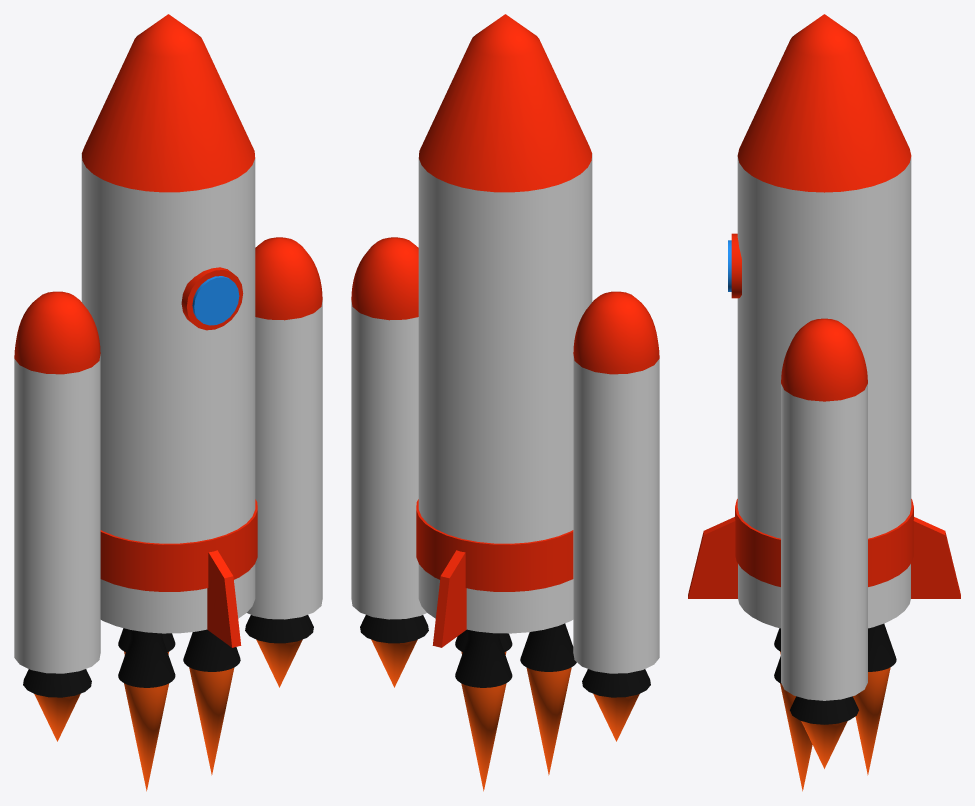
File: Rocket_20_HeavyLifter.obj
3 renders of one model, left to right at view 1: azimuth 30°, elevation 25°; view 2: azimuth 150°, elevation 25°; view 3: azimuth 270°, elevation 25°, orthographic.
Visible parts, largest first — view 1: R20_Body, R20_Booster_2, R20_Booster_1, R20_Nose, R20_Band_1, R20_BoosterNose_2, R20_BoosterNose_1, R20_Nozzle_2, R20_Fin_3, R20_Flame_2, R20_Flame_3, R20_Window_1 (+6 smaller); view 2: R20_Body, R20_Booster_2, R20_Booster_1, R20_Nose, R20_Band_1, R20_BoosterNose_2, R20_BoosterNose_1, R20_Nozzle_1, R20_Fin_1, R20_Flame_1, R20_Flame_2, R20_Nozzle_2 (+4 smaller); view 3: R20_Body, R20_Booster_1, R20_Nose, R20_BoosterNose_1, R20_Band_1, R20_Fin_1, R20_Fin_3, R20_Flame_1, R20_BoosterNozzle_1, R20_Flame_3, R20_Nozzle_1, R20_BoosterFlame_1 (+1 smaller).
Boxes of the visible parts, bbox=[...] form: R20_Body: bbox=[81, 154, 255, 633]; R20_Booster_2: bbox=[14, 354, 100, 673]; R20_Booster_1: bbox=[247, 300, 322, 619]; R20_Nose: bbox=[81, 14, 255, 192]; R20_Band_1: bbox=[100, 499, 257, 591]; R20_BoosterNose_2: bbox=[14, 291, 100, 374]; R20_BoosterNose_1: bbox=[255, 237, 322, 320]; R20_Nozzle_2: bbox=[118, 630, 175, 687]; R20_Fin_3: bbox=[207, 550, 241, 647]; R20_Flame_2: bbox=[124, 683, 168, 791]; R20_Flame_3: bbox=[189, 667, 234, 775]; R20_Window_1: bbox=[192, 276, 239, 325]; R20_Body: bbox=[418, 154, 592, 633]; R20_Booster_2: bbox=[573, 354, 659, 673]; R20_Booster_1: bbox=[351, 300, 426, 619]; R20_Nose: bbox=[418, 14, 592, 192]; R20_Band_1: bbox=[416, 499, 573, 591]; R20_BoosterNose_2: bbox=[573, 291, 659, 374]; R20_BoosterNose_1: bbox=[351, 237, 418, 320]; R20_Nozzle_1: bbox=[455, 629, 512, 687]; R20_Fin_1: bbox=[432, 550, 466, 647]; R20_Flame_1: bbox=[461, 683, 506, 791]; R20_Flame_2: bbox=[526, 667, 571, 775]; R20_Nozzle_2: bbox=[520, 623, 576, 671]; R20_Body: bbox=[737, 157, 911, 628]; R20_Booster_1: bbox=[781, 384, 867, 700]; R20_Nose: bbox=[737, 14, 911, 192]; R20_BoosterNose_1: bbox=[781, 318, 867, 401]; R20_Band_1: bbox=[735, 499, 913, 586]; R20_Fin_1: bbox=[911, 517, 960, 598]; R20_Fin_3: bbox=[688, 517, 737, 598]; R20_Flame_1: bbox=[853, 667, 890, 775]; R20_BoosterNozzle_1: bbox=[790, 696, 858, 724]; R20_Flame_3: bbox=[780, 683, 812, 791]; R20_Nozzle_1: bbox=[868, 623, 896, 671]; R20_BoosterFlame_1: bbox=[801, 721, 847, 768].
Size of the model in its own units: 3.95 by 9.67 by 3.14.
